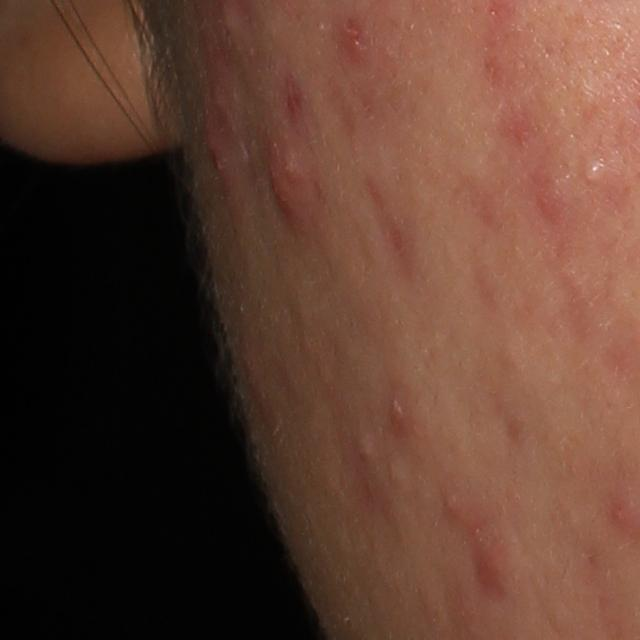comedo: (383, 457, 408, 492), (355, 434, 380, 467)
papule: (258, 128, 311, 224), (469, 520, 517, 605), (436, 463, 488, 529), (200, 111, 237, 191), (381, 397, 409, 433)
